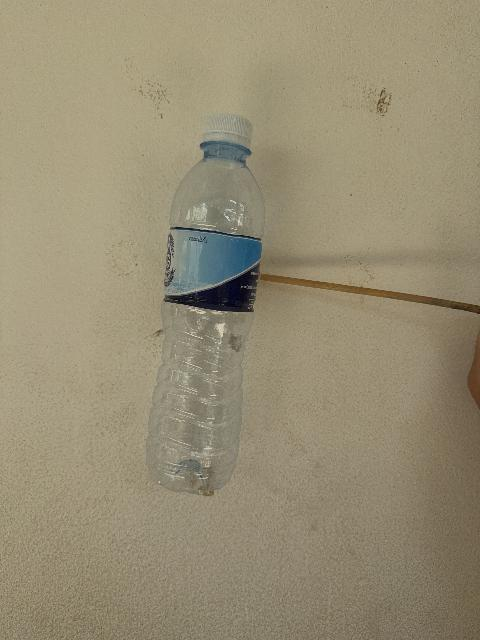bottle: (146, 114, 263, 494)
